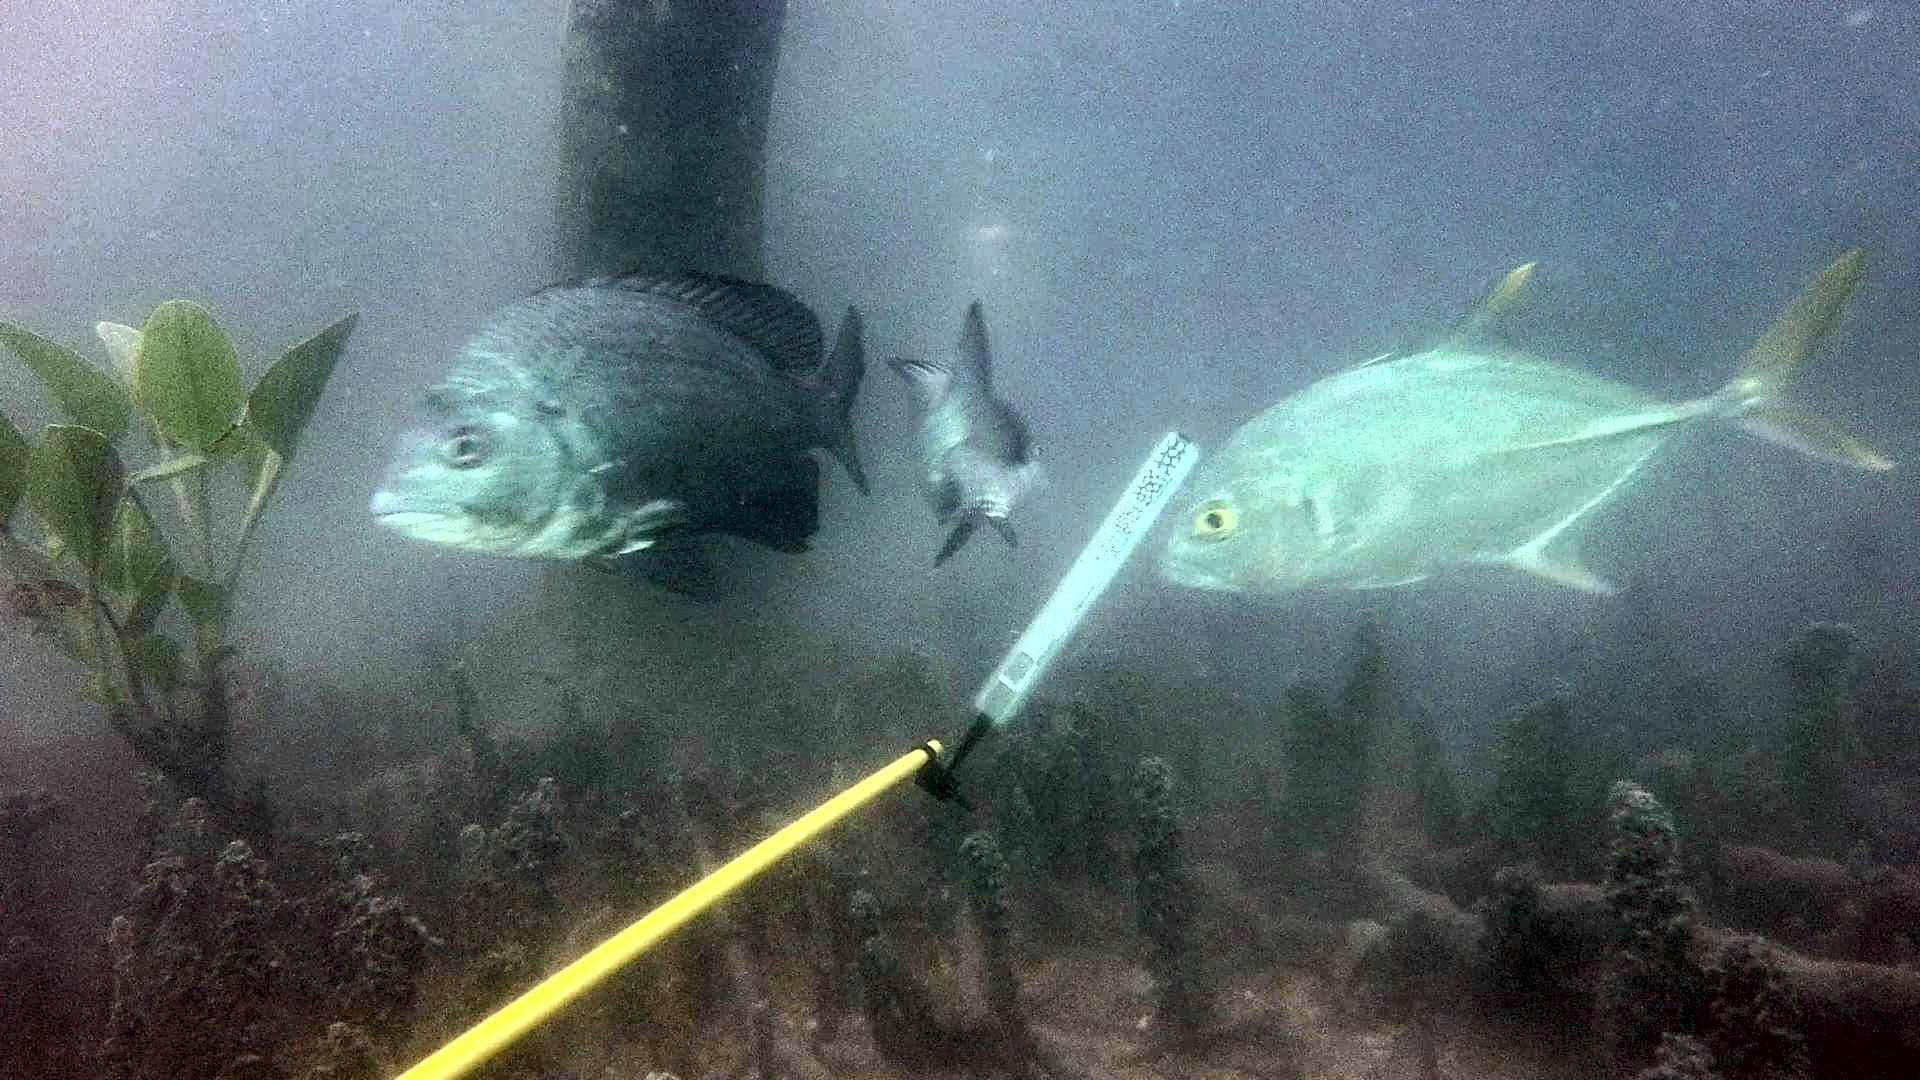acanthopagrus palmaris: (360, 257, 882, 603), (895, 285, 1050, 578)
caranx: (1146, 237, 1898, 609)
